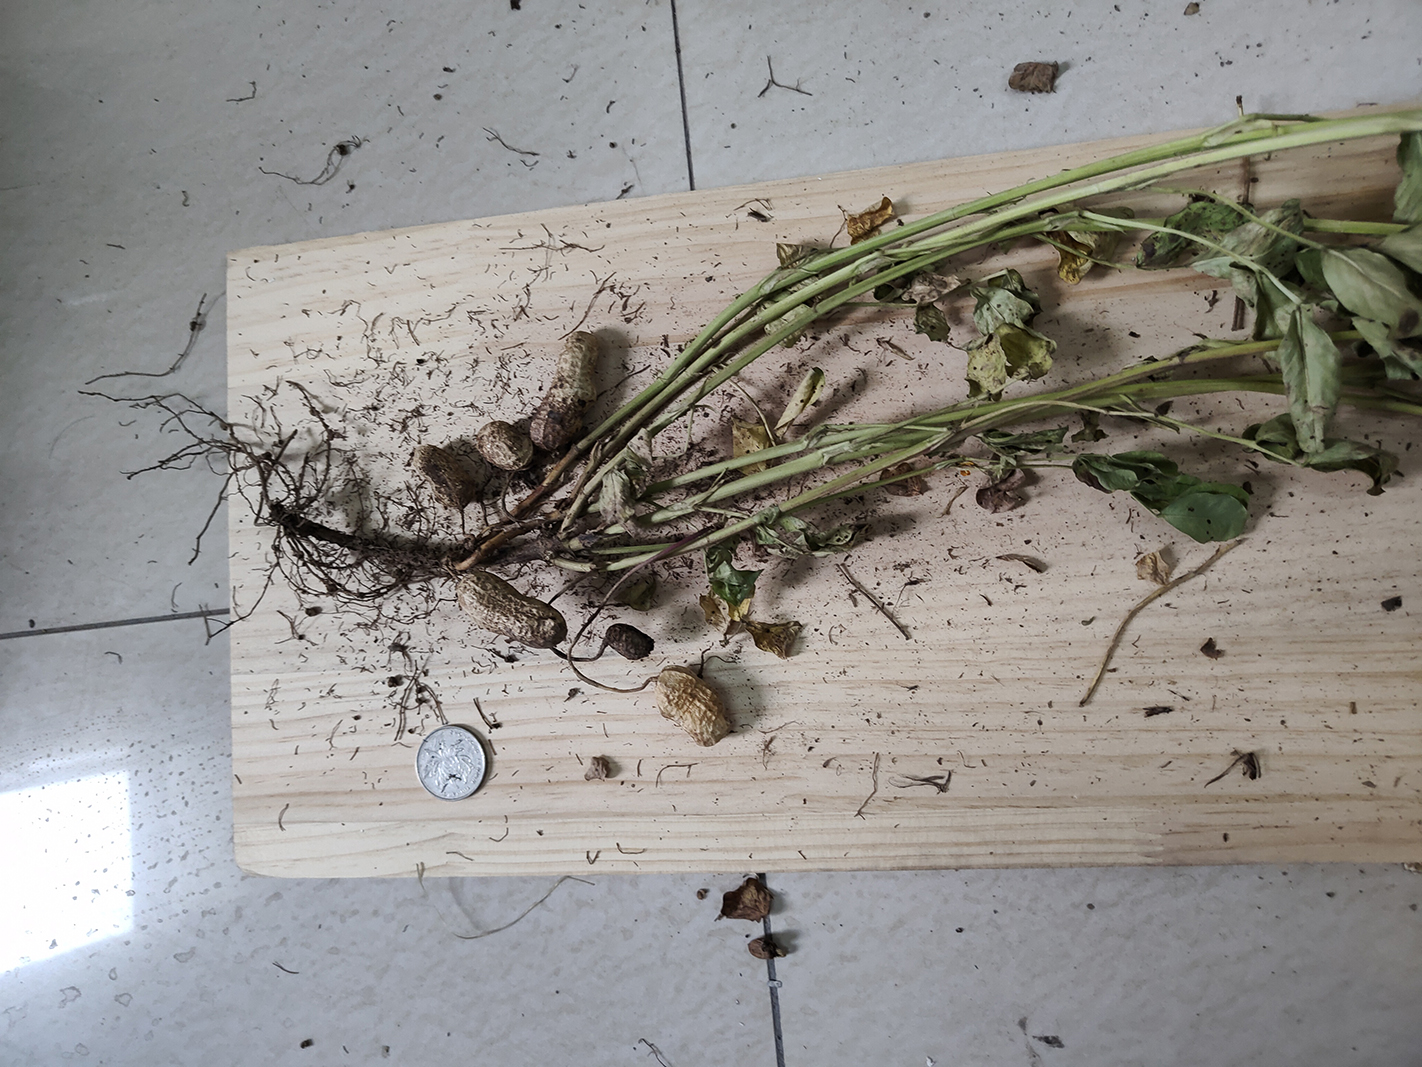h: (528, 328, 600, 453), (456, 573, 565, 646), (656, 664, 727, 746), (476, 423, 533, 468)
l: (409, 444, 470, 511), (606, 624, 656, 660)
